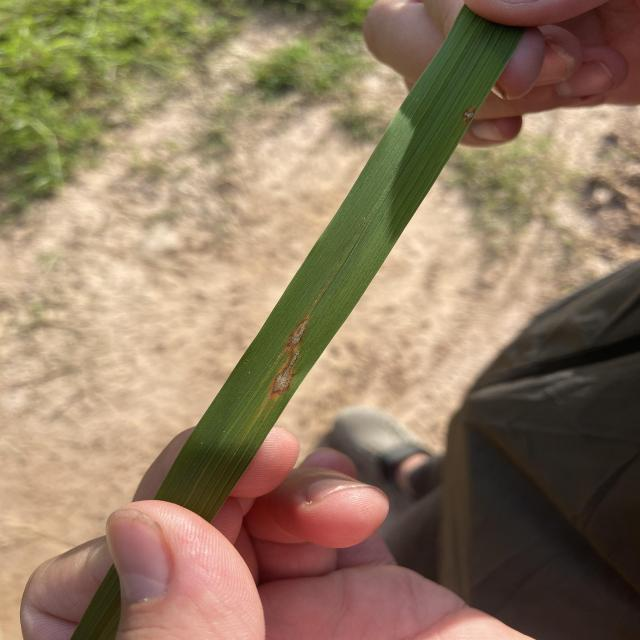Dao on: (272, 352, 299, 395), (286, 319, 308, 348), (462, 107, 476, 123)
